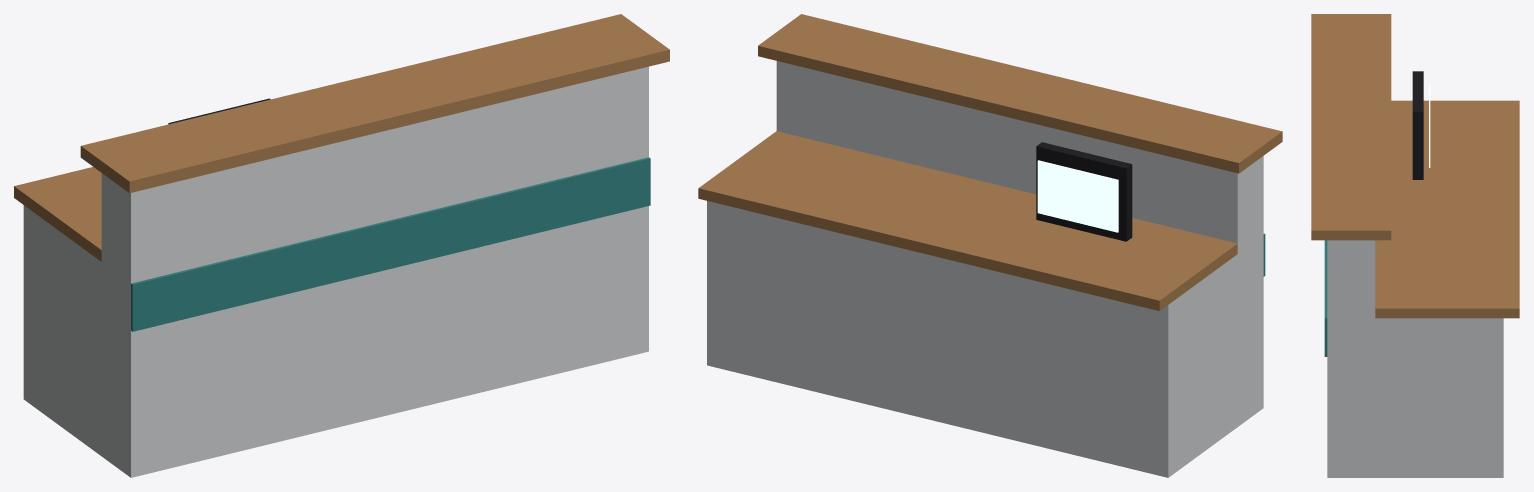
File: hos-balcao.gltf
3 renders of one model, left to right at view 1: azimuth 30°, elevation 25°; view 2: azimuth 150°, elevation 25°; view 3: azimuth 270°, elevation 25°, orthographic. The views are drawn at different scales.
Parts seen in each view (by area): view 1: hos-balcao; view 2: hos-balcao; view 3: hos-balcao.
Part boxes in pixels (x1=…): hos-balcao: x1=14, y1=14, x2=669, y2=477; hos-balcao: x1=698, y1=14, x2=1282, y2=477; hos-balcao: x1=1311, y1=14, x2=1519, y2=477.
Bounding box in the file's own units: 1.92 × 1.04 × 0.78.
